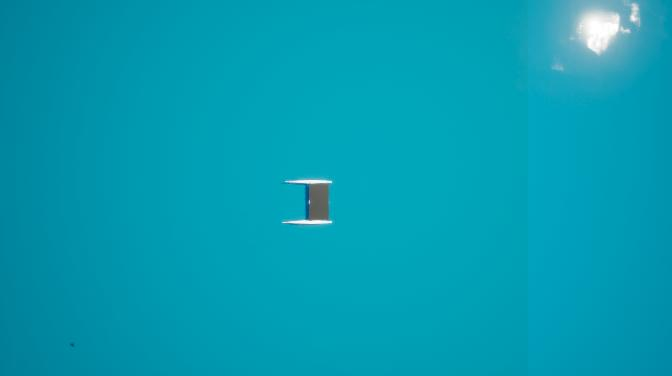boat: (283, 177, 335, 232)
drone: (68, 339, 77, 351)
land_base: (308, 185, 328, 219)
light_reflex: (534, 1, 658, 86)
